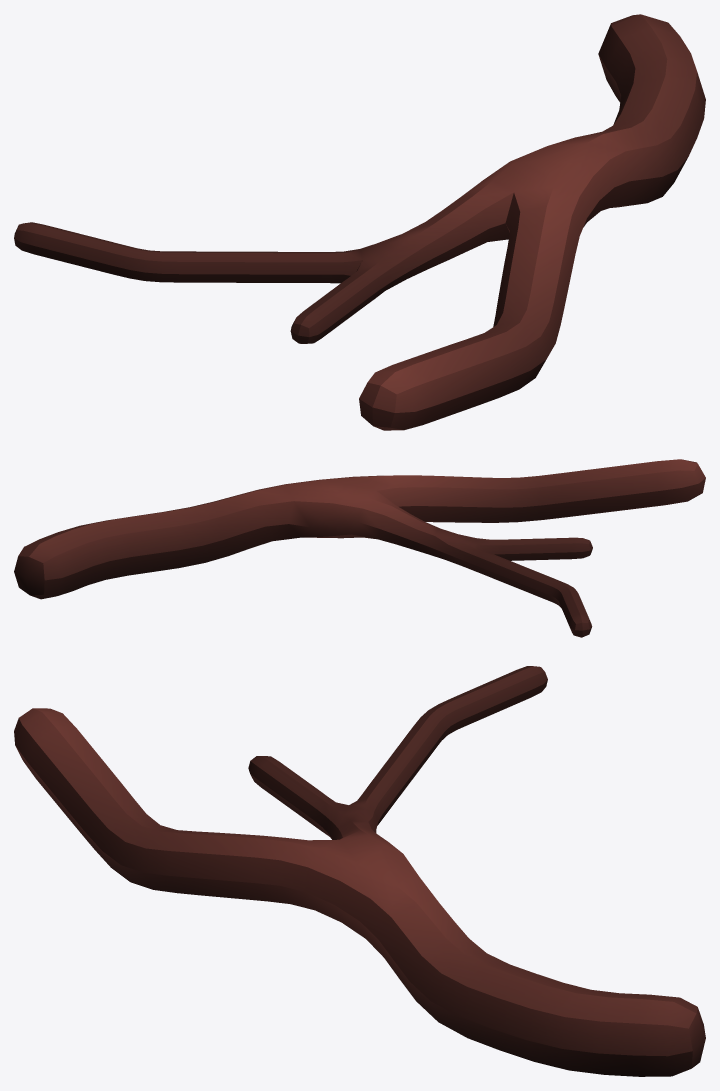
The model's file is branch6.fbx.
3 renders of one model, top to bottom at view 1: azimuth 30°, elevation 25°; view 2: azimuth 150°, elevation 25°; view 3: azimuth 270°, elevation 25°, orthographic. The views are drawn at different scales.
Visible parts, largest first — view 1: branch3; view 2: branch3; view 3: branch3.
Part boxes in pixels (x1,y1,x2,y2): branch3: (14,14,705,430); branch3: (14,459,705,637); branch3: (14,666,705,1076).
Bounding box in the file's own units: 337 × 48.16 × 285.
